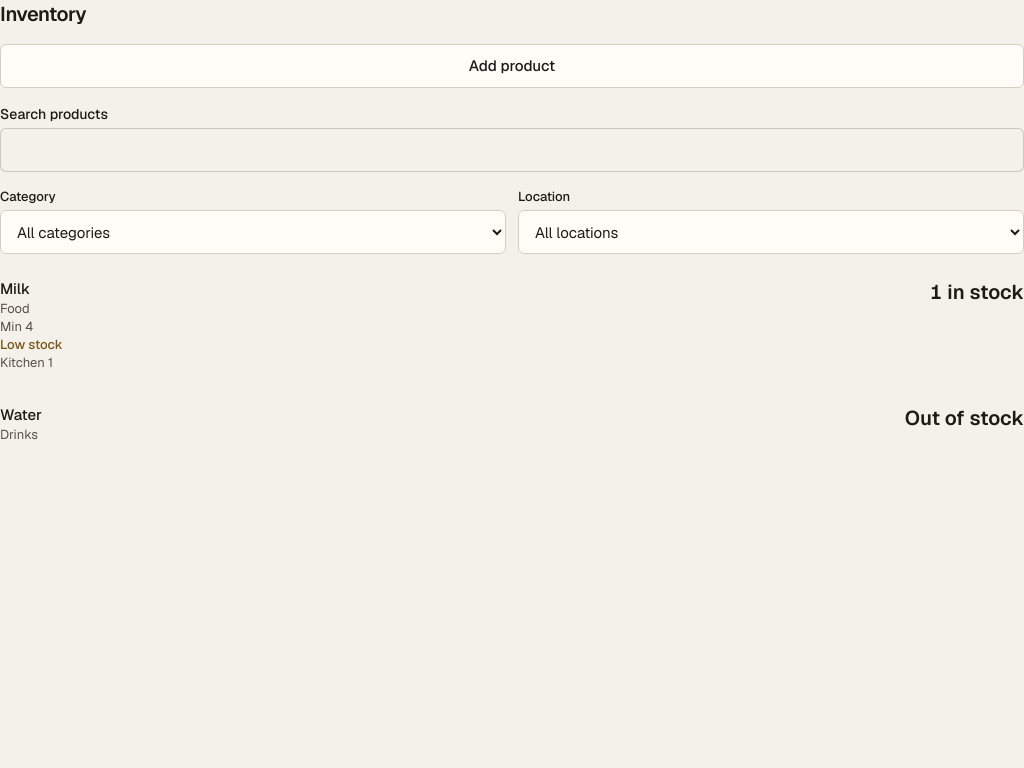
Test case: InventoryOverviewScreen › creates a product through createProduct and opens the new product
Expected: the link "Milk" is shown, x1=0 y1=270 x2=1023 y2=380
Click the button "Add product" at (512, 66), box x1=0 y1=44 x2=1023 y2=88
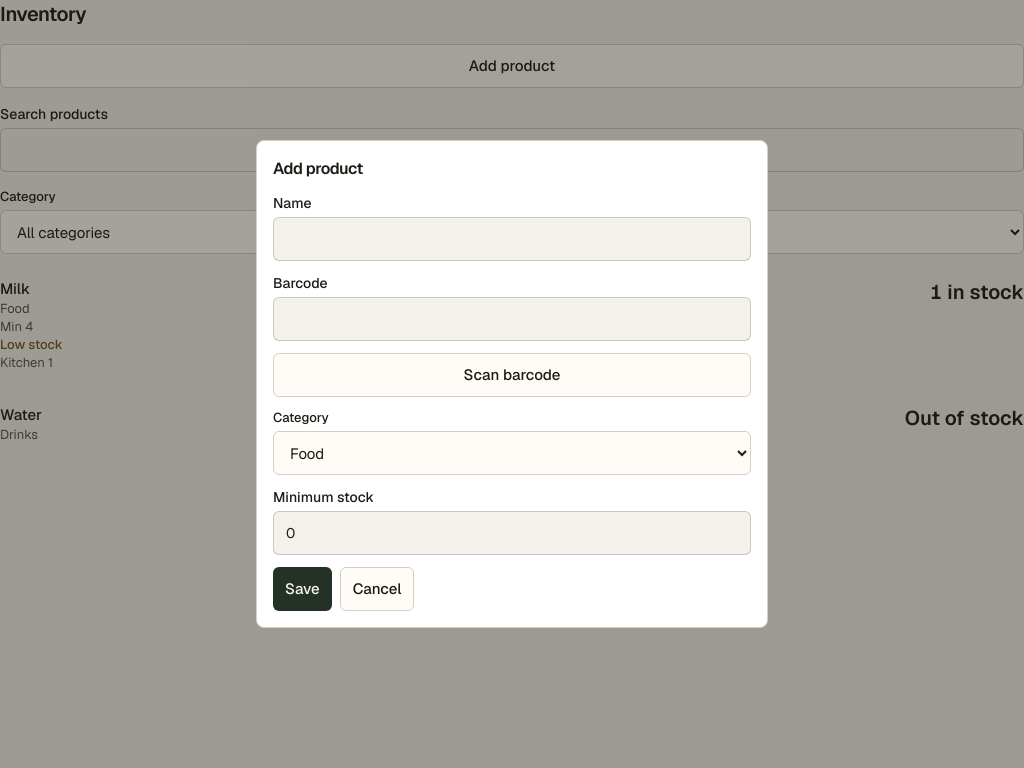
Type "Oats" into the field labelled "Name" at (512, 239), box x1=273 y1=217 x2=751 y2=261
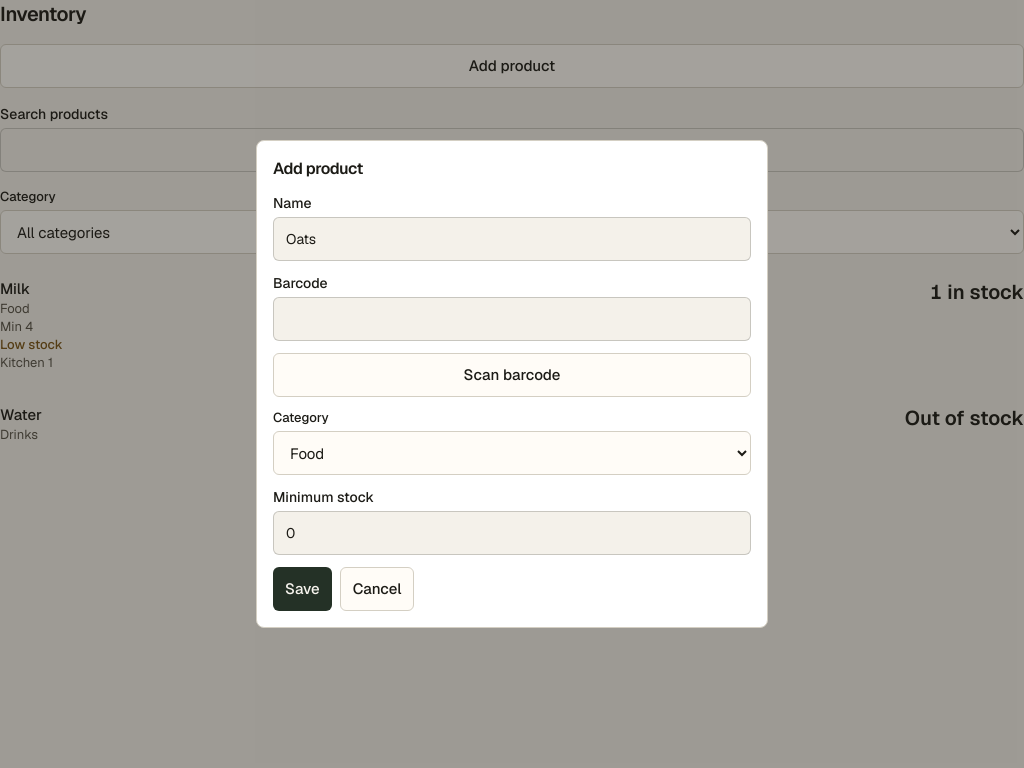
Submit the form "Save", box x1=273 y1=193 x2=751 y2=611
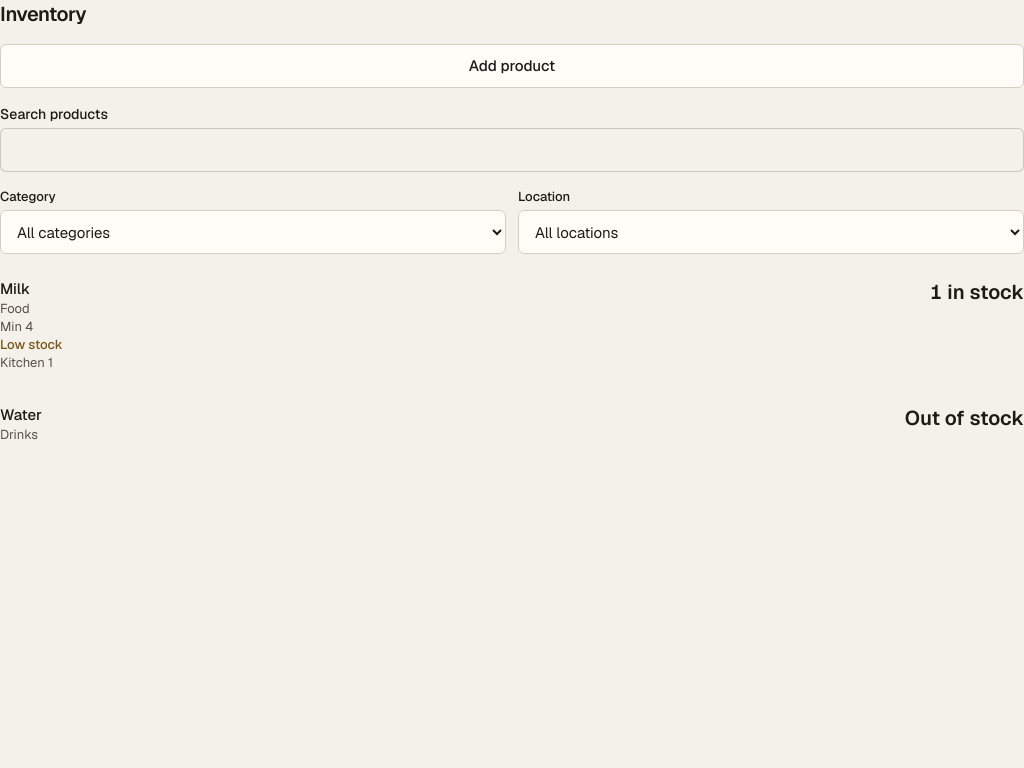
Expected: the dialog is gone
